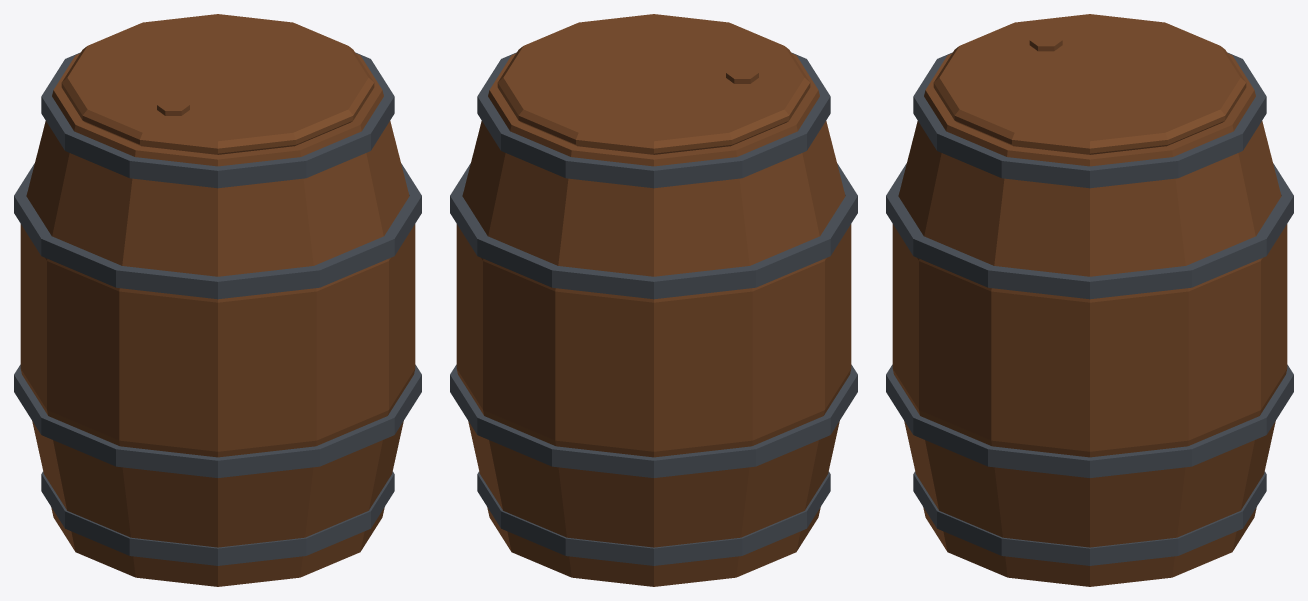
Rendered from barrel.obj.
3 renders of one model, left to right at view 1: azimuth 30°, elevation 25°; view 2: azimuth 150°, elevation 25°; view 3: azimuth 270°, elevation 25°, orthographic.
Parts seen in each view (by area): view 1: barrel; view 2: barrel; view 3: barrel.
Boxes of the visible parts, x1,y1,x2,y2 form: barrel: [14, 14, 421, 586]; barrel: [450, 14, 857, 586]; barrel: [886, 14, 1293, 586].
Size of the model in its own units: 0.744 by 0.895 by 0.744.
